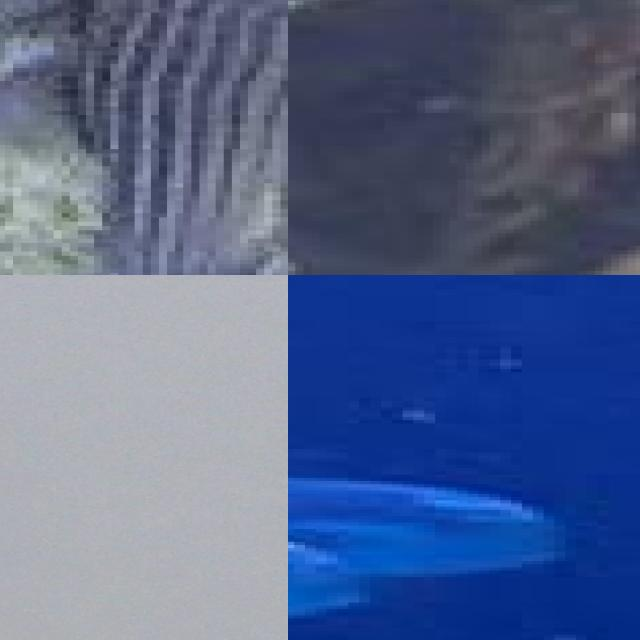fish: (0, 0, 288, 275), (288, 465, 435, 640)
